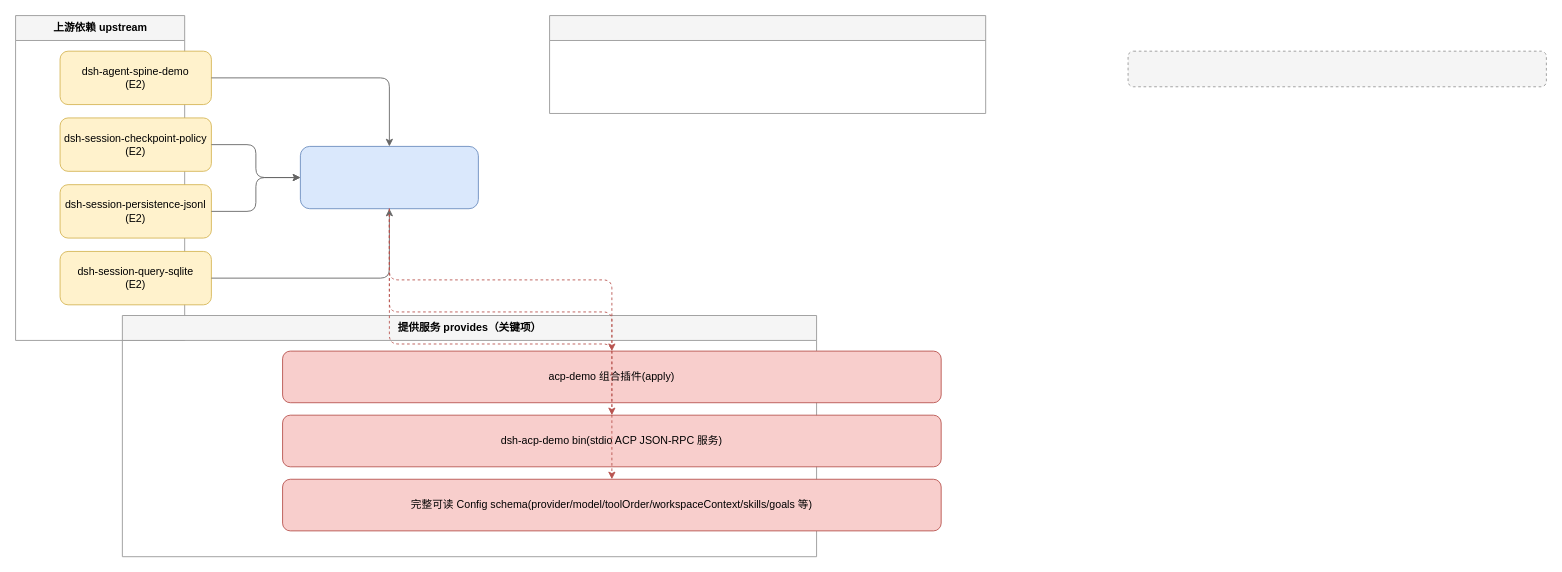
This 1562x572 diagram has some shape labels left out. Here are the shapes that lost their labels. From the top down, the centre of each, then its label:
At (767,64): "下游被依赖 dependents".
At (1336,68): "无下游".
At (388,177): "@deepseek-ai/dsh-acp-demo".
